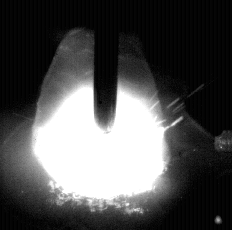arame: (94, 0, 118, 133)
poca: (31, 0, 163, 230)
